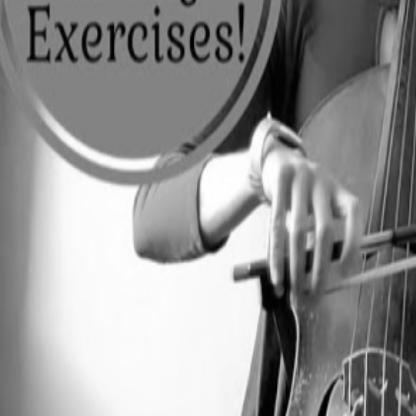bad: (263, 144, 366, 309)
